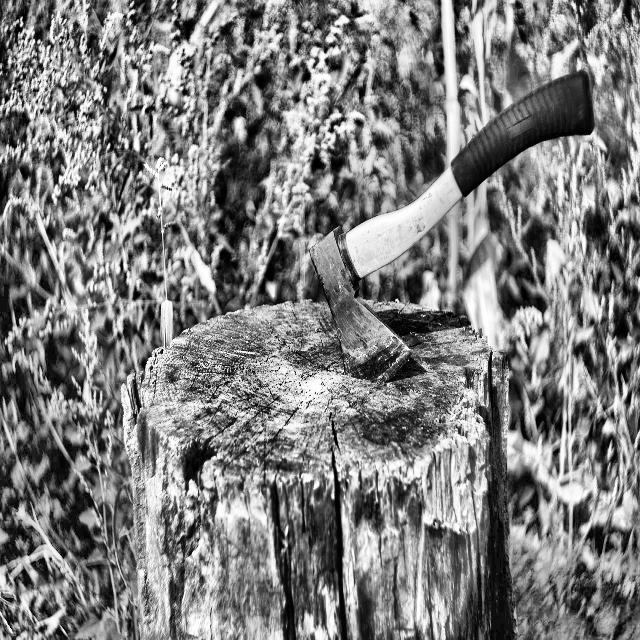pisau: (306, 58, 604, 392)
